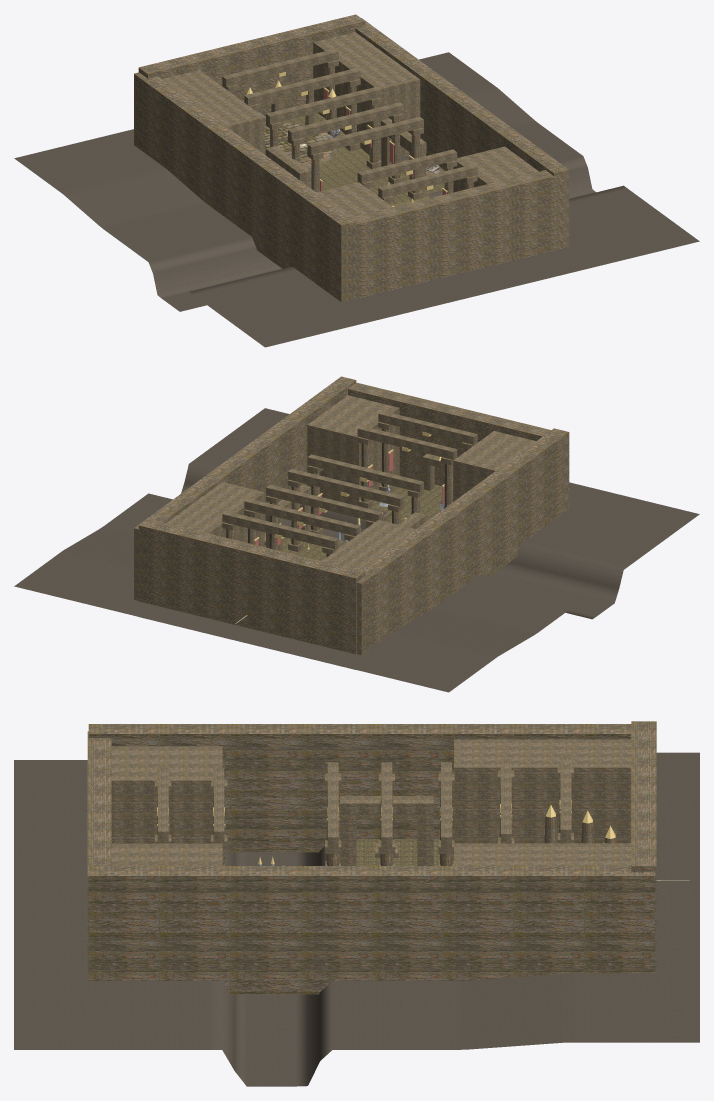
Rendered from world.glb.
3 renders of one model, top to bottom at view 1: azimuth 30°, elevation 25°; view 2: azimuth 150°, elevation 25°; view 3: azimuth 270°, elevation 25°, orthographic. The views are drawn at different scales.
Visible parts, largest first — view 1: vault-of-vaelmor_Masonry, vault-of-vaelmor_Terrain, vault-of-vaelmor_Roads, vault-of-vaelmor_ImportedCatalogAndFlora; view 2: vault-of-vaelmor_Masonry, vault-of-vaelmor_Terrain, vault-of-vaelmor_Roads, vault-of-vaelmor_ImportedCatalogAndFlora; view 3: vault-of-vaelmor_Masonry, vault-of-vaelmor_Terrain, vault-of-vaelmor_Roads, vault-of-vaelmor_ImportedCatalogAndFlora.
Boxes of the visible parts, x1,y1,x2,y2 form: vault-of-vaelmor_Masonry: [134, 14, 569, 302]; vault-of-vaelmor_Terrain: [14, 52, 699, 347]; vault-of-vaelmor_Roads: [264, 113, 444, 206]; vault-of-vaelmor_ImportedCatalogAndFlora: [246, 72, 447, 206]; vault-of-vaelmor_Masonry: [134, 376, 569, 669]; vault-of-vaelmor_Terrain: [14, 408, 699, 692]; vault-of-vaelmor_Roads: [264, 484, 442, 560]; vault-of-vaelmor_ImportedCatalogAndFlora: [235, 432, 444, 623]; vault-of-vaelmor_Masonry: [87, 721, 656, 994]; vault-of-vaelmor_Terrain: [14, 752, 699, 1086]; vault-of-vaelmor_Roads: [339, 839, 439, 865]; vault-of-vaelmor_ImportedCatalogAndFlora: [157, 800, 689, 880].
Bounding box in the file's own units: 92 × 22.9 × 92.
Materials: 4 (3 with a texture image).
